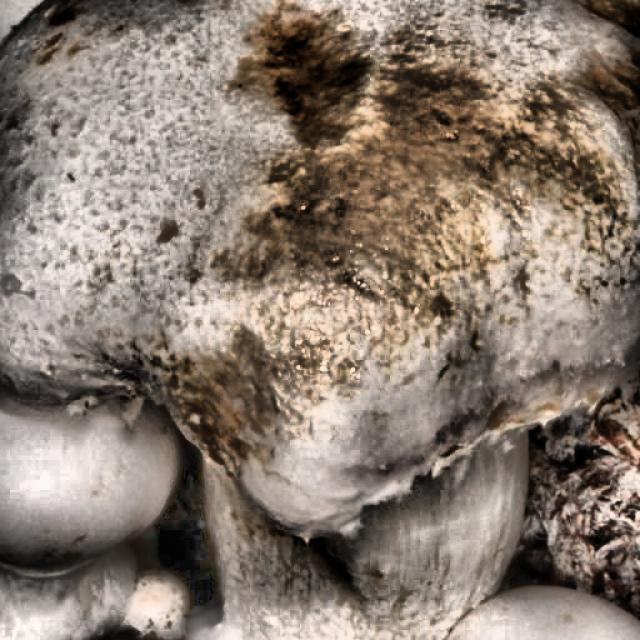Affected: (215, 58, 640, 312), (565, 0, 640, 88)
